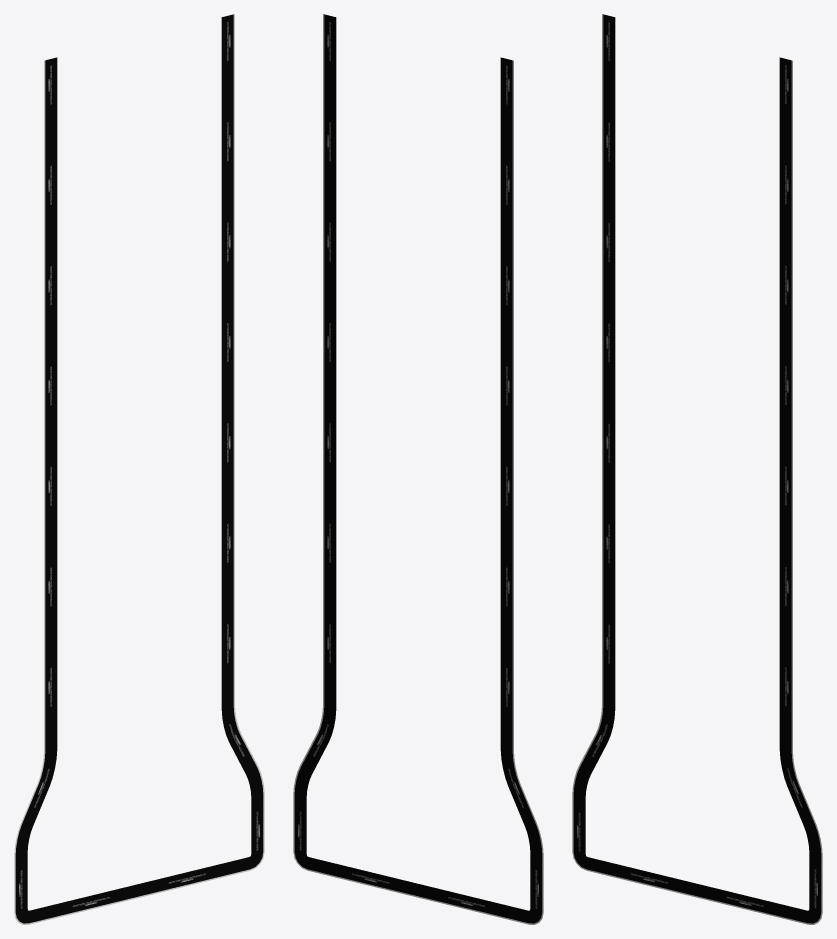
Rendered from breach_danger_zone_indicator_02.glb.
3 views of the same model, side by side, from view 1: azimuth 30°, elevation 25°; view 2: azimuth 150°, elevation 25°; view 3: azimuth 330°, elevation 25° (orthographic).
Parts seen in each view (by area): view 1: breach_danger_zone_indicator_02; view 2: breach_danger_zone_indicator_02; view 3: breach_danger_zone_indicator_02.
Boxes of the visible parts, x1,y1,x2,y2 form: breach_danger_zone_indicator_02: (14, 14, 264, 924); breach_danger_zone_indicator_02: (293, 14, 543, 924); breach_danger_zone_indicator_02: (572, 14, 822, 924).
Bounding box in the file's own units: 394 × 1295 × 0.
Materials: 2 (2 with a texture image).
